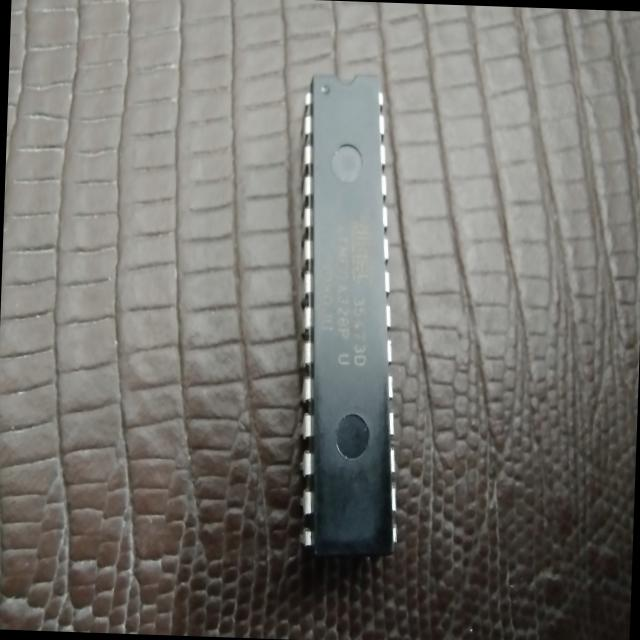atmega: (284, 69, 414, 562)
